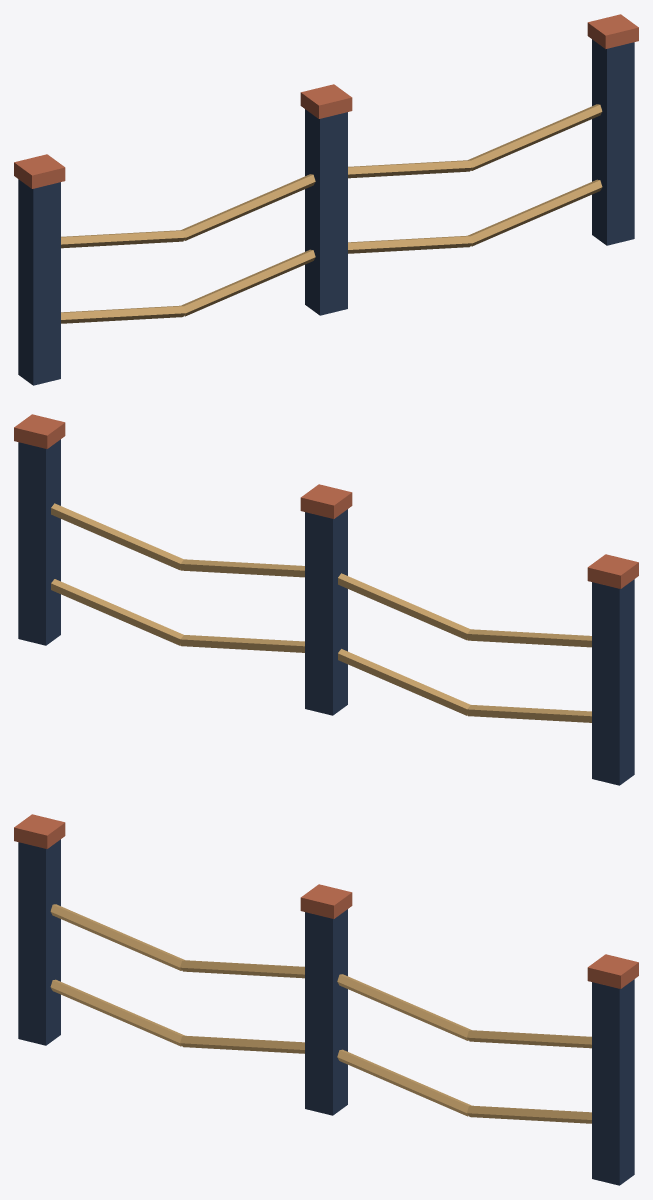
File: rope-stanchion.glb
3 renders of one model, top to bottom at view 1: azimuth 30°, elevation 25°; view 2: azimuth 150°, elevation 25°; view 3: azimuth 330°, elevation 25°, orthographic.
Parts seen in each view (by area): view 1: rope-stanchion; view 2: rope-stanchion; view 3: rope-stanchion.
Boxes of the visible parts, x1=… form: rope-stanchion: x1=14, y1=14, x2=638, y2=385; rope-stanchion: x1=14, y1=414, x2=638, y2=785; rope-stanchion: x1=14, y1=814, x2=638, y2=1185.
Bounding box in the file's own units: 3.28 × 1.1 × 0.17.
